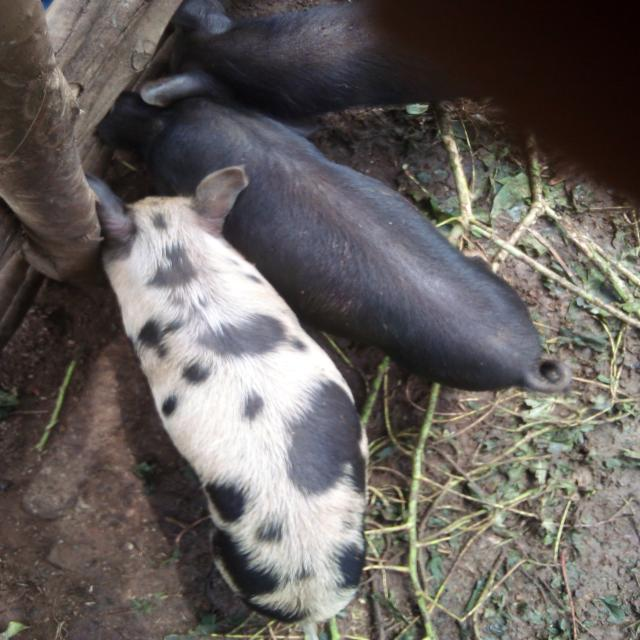pig: (48, 138, 467, 640)
